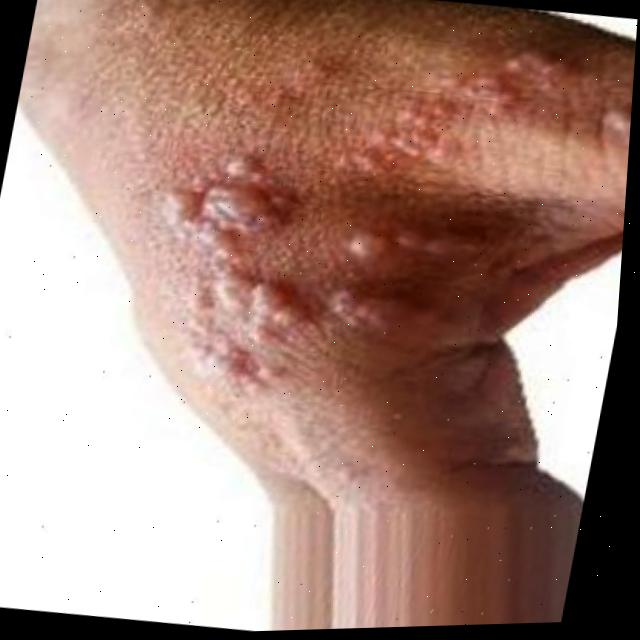Shingles: (123, 0, 640, 429)
